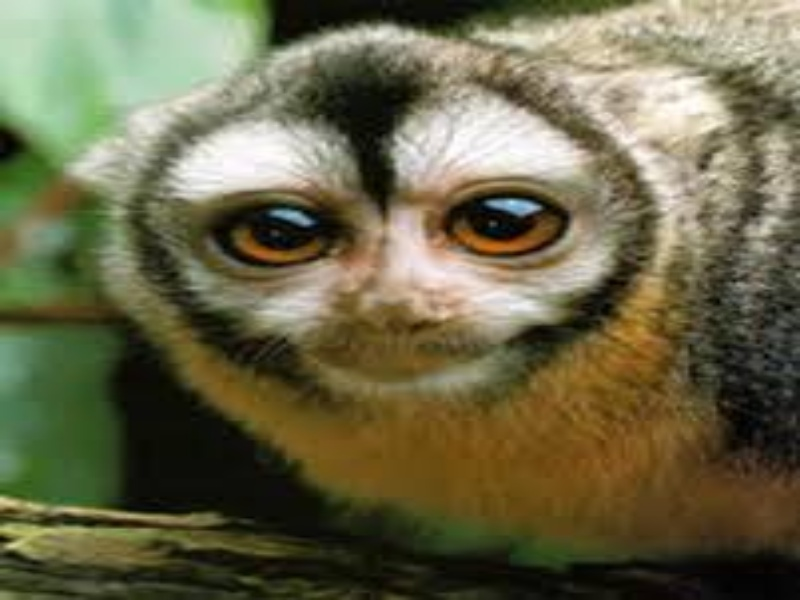monkey: (66, 31, 800, 515)
